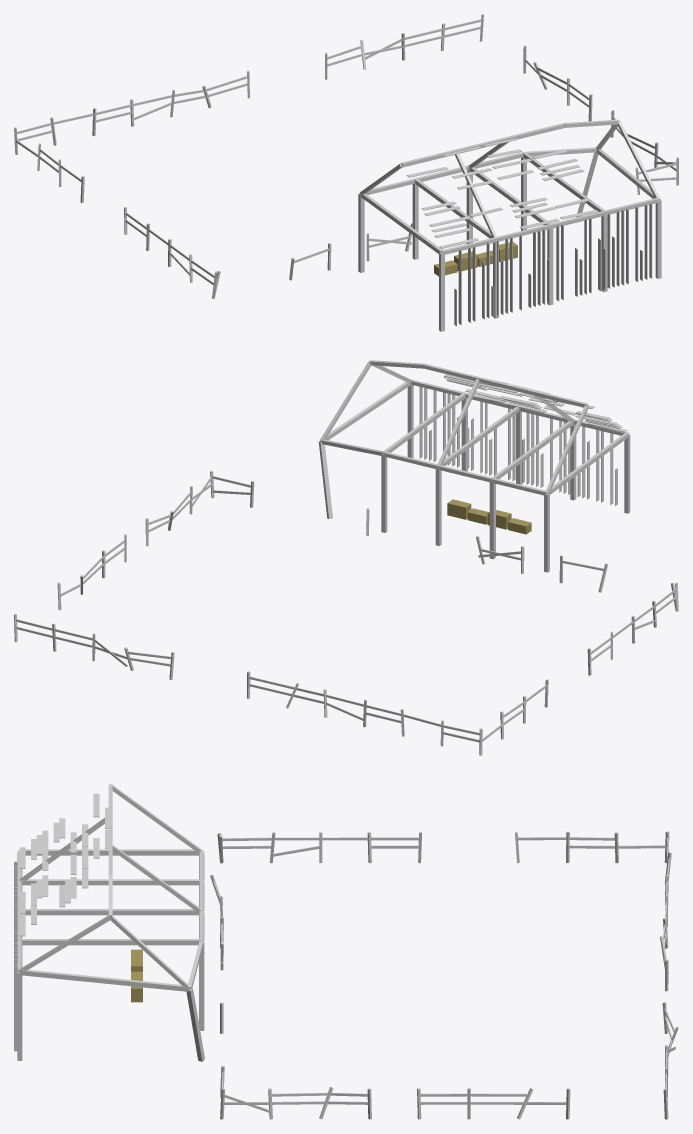
Rendered from barn_ruin.glb.
3 views of the same model, one above another, from view 1: azimuth 30°, elevation 25°; view 2: azimuth 150°, elevation 25°; view 3: azimuth 270°, elevation 25° (orthographic). The views are drawn at different scales.
Parts seen in each view (by area): view 1: barn_ruin; view 2: barn_ruin; view 3: barn_ruin.
Boxes of the visible parts, box(x1,y1,x2,y2) form: barn_ruin: box(14, 14, 678, 331); barn_ruin: box(14, 360, 678, 755); barn_ruin: box(14, 784, 678, 1119).
Size of the model in its own units: 30.32 by 8.54 by 32.9.
